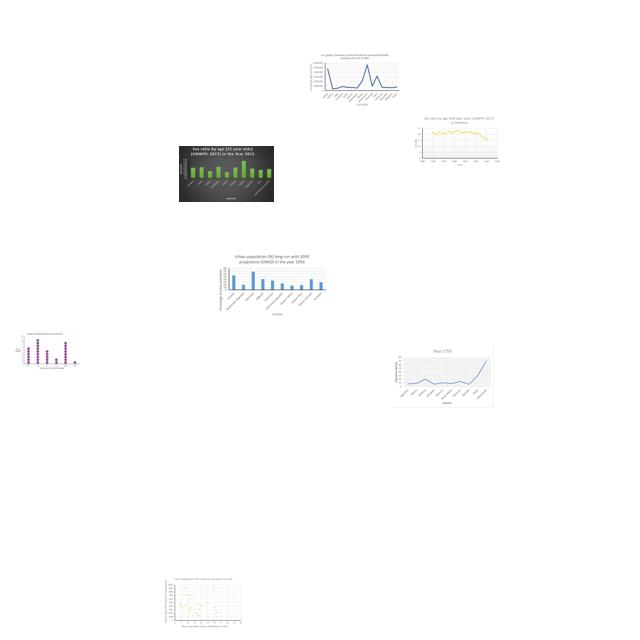Graph: (217, 253, 328, 317), (391, 346, 494, 408), (179, 146, 274, 202), (308, 52, 401, 108), (413, 115, 501, 168), (163, 576, 243, 629), (13, 331, 81, 371)
